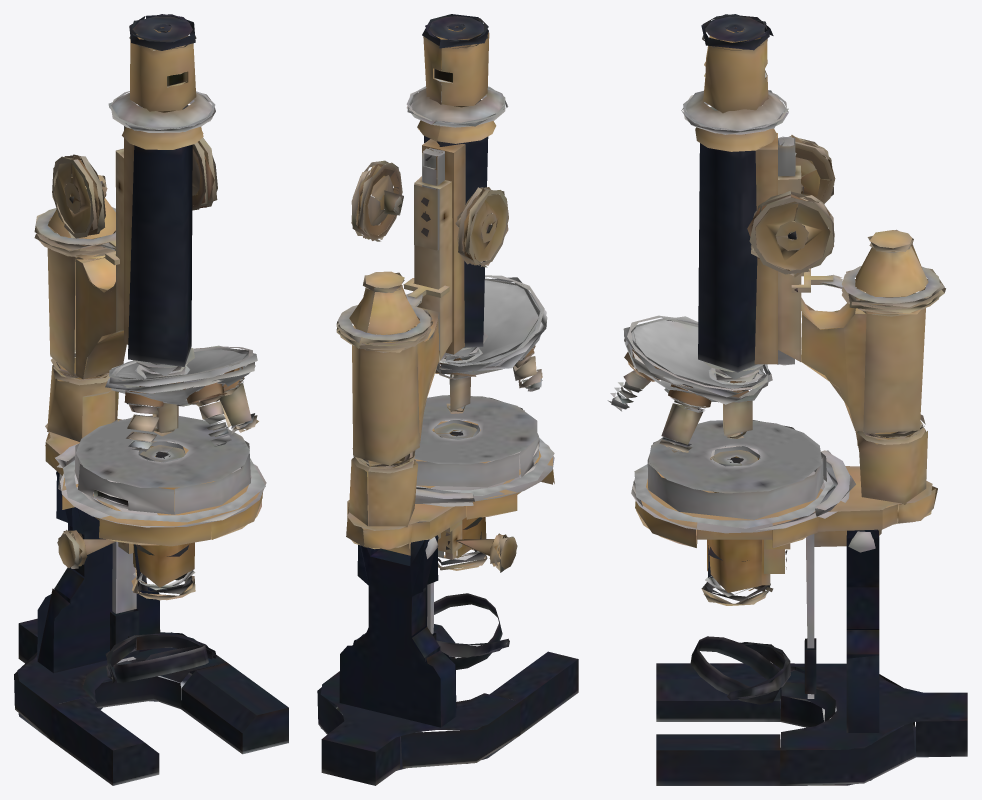
File: microscope.glb
3 views of the same model, side by side, from view 1: azimuth 30°, elevation 25°; view 2: azimuth 150°, elevation 25°; view 3: azimuth 270°, elevation 25° (orthographic). The views are drawn at different scales.
Visible parts, largest first — view 1: vintage_microscope_mirror_arm; view 2: vintage_microscope_mirror_arm; view 3: vintage_microscope_mirror_arm.
Boxes of the visible parts, box(x1,y1,x2,y2) form: vintage_microscope_mirror_arm: box(14, 14, 288, 785); vintage_microscope_mirror_arm: box(317, 14, 578, 785); vintage_microscope_mirror_arm: box(607, 14, 967, 785).
Bounding box in the file's own units: 0.1064 × 0.3996 × 0.1825.
Materials: 1 (1 with a texture image).
